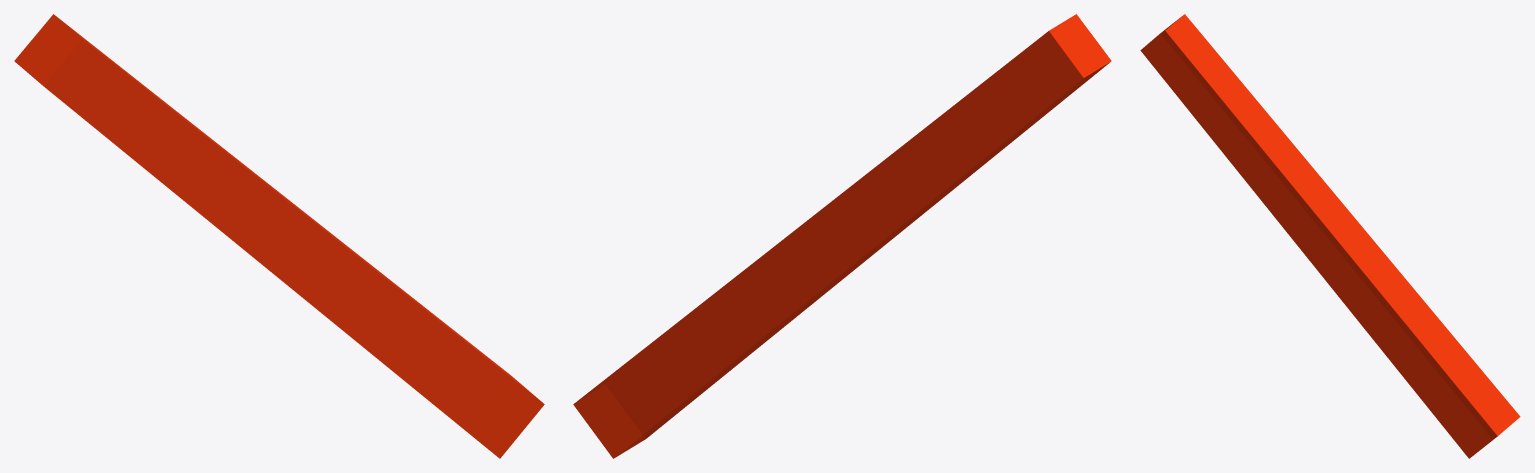
The model's file is Event_420604493_EBrechit_22.fbx.
3 views of the same model, side by side, from view 1: azimuth 30°, elevation 25°; view 2: azimuth 150°, elevation 25°; view 3: azimuth 330°, elevation 25° (orthographic). The views are drawn at different scales.
Visible parts, largest first — view 1: Model; view 2: Model; view 3: Model.
Part boxes in pixels (x1,y1,x2,y2): Model: [14, 14, 544, 458]; Model: [573, 14, 1111, 458]; Model: [1140, 14, 1520, 458].
Bounding box in the file's own units: 0.5674 × 0.57 × 0.0942.
